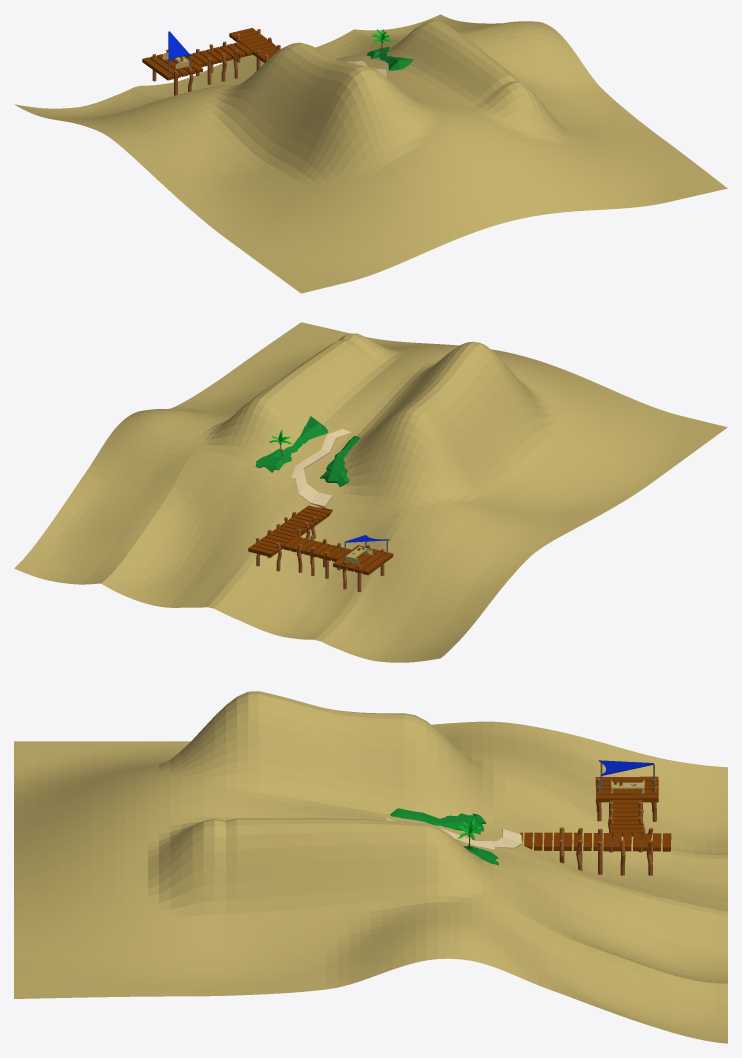
The model's file is MenuIsle.fbx.
The picture shows the model from 3 angles, top to bottom: view 1: azimuth 30°, elevation 25°; view 2: azimuth 150°, elevation 25°; view 3: azimuth 270°, elevation 25°; orthographic projection. The views are drawn at different scales.
Visible parts, largest first — view 1: Cube.009, Cube.002, Cube, Cube.003; view 2: Cube.009, Cube, Cube.010, Cube.002, Cube.003; view 3: Cube.009, Cube, Cube.003, Cube.002, Cube.010.
Part boxes in pixels (x1=…): Cube.009: x1=14, y1=14, x2=727, y2=293; Cube.002: x1=186, y1=42, x2=252, y2=67; Cube: x1=229, y1=28, x2=280, y2=62; Cube.003: x1=142, y1=53, x2=202, y2=80; Cube.009: x1=14, y1=322, x2=727, y2=662; Cube: x1=248, y1=505, x2=332, y2=557; Cube.010: x1=291, y1=429, x2=350, y2=507; Cube.002: x1=283, y1=536, x2=350, y2=561; Cube.003: x1=333, y1=545, x2=393, y2=575; Cube.009: x1=14, y1=691, x2=727, y2=1043; Cube: x1=520, y1=832, x2=671, y2=851; Cube.003: x1=595, y1=776, x2=658, y2=802; Cube.002: x1=610, y1=800, x2=642, y2=836; Cube.010: x1=386, y1=818, x2=521, y2=849.
Bounding box in the file's own units: 1838 × 641 × 2142.
